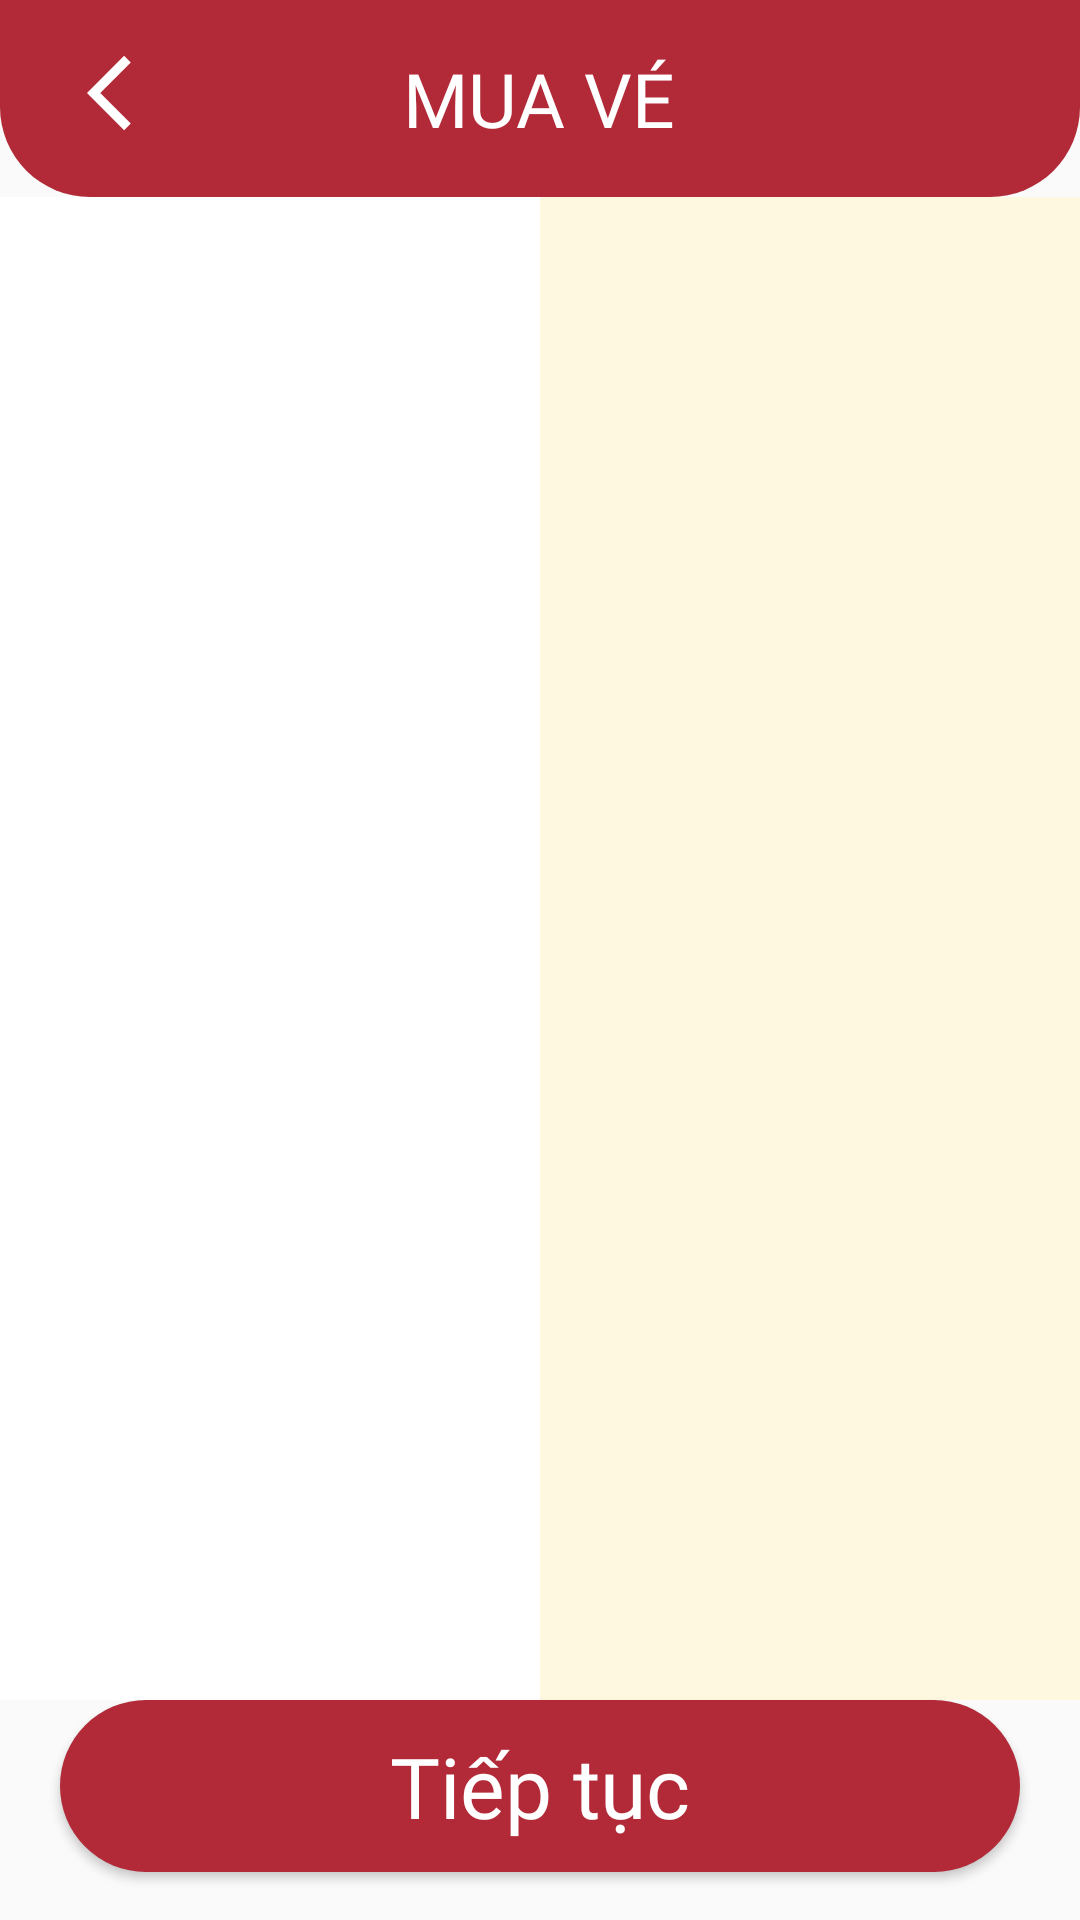

Named icons in this screenshot (1080w x 1920h) and their bounding boxes, {"x1": x1, "y1": y1, "x2": x2, "y2": y2}:
back arrow: {"x1": 87, "y1": 56, "x2": 131, "y2": 130}
